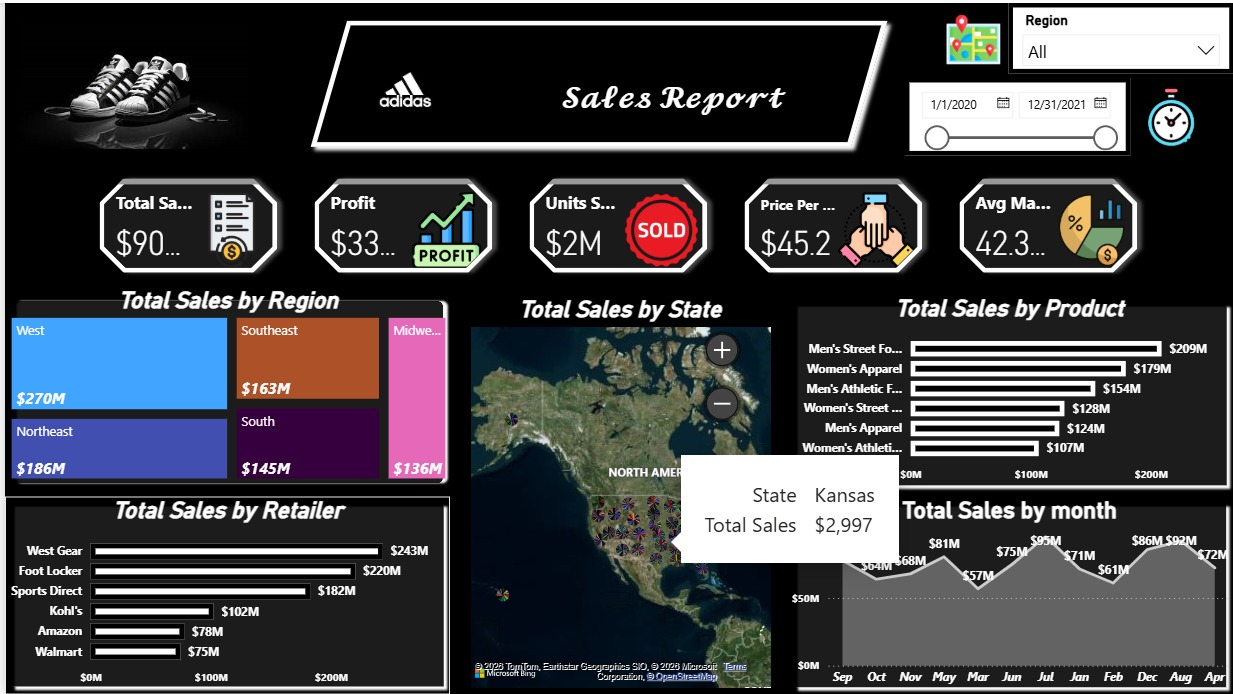

The dashboard page shown, as its layout file describes it:
{"tool":"powerbi","page":{"name":"Page 1","canvas":[1280,720],"ordinal":0},"visuals":[{"type":"shape","box":[309.6,8.7,619.1,149.6],"z":0},{"type":"textbox","box":[514.8,52.2,360,76.5],"z":1000},{"type":"cardVisual","fields":{"Data":["Sum(Data Sales Adidas.Total Sales)","Sum(Data Sales Adidas.Operating Profit)","Sum(Data Sales Adidas.Units Sold)","_Measure Table.Avg Price Per Unite","_Measure Table.Avg Margin"]},"box":[81.7,165.2,1116.5,132.2],"z":2000},{"type":"shape","box":[0,514.8,464.3,205.2],"z":3000},{"type":"shape","box":[0,303.8,463.7,204.5],"z":4000},{"type":"shape","box":[815.7,306.1,464.3,203.5],"z":5000},{"type":"shape","box":[816.5,514.1,463.7,205.9],"z":6000},{"type":"treemap","title":" Total Sales by Region","fields":{"Group":["Data Sales Adidas.Region"],"Values":["Sum(Data Sales Adidas.Total Sales)"]},"box":[1.7,295.7,462.6,205.2],"z":7000},{"type":"clusteredBarChart","title":" Total Sales by Product","fields":{"Category":["Data Sales Adidas.Product"],"Y":["Sum(Data Sales Adidas.Total Sales)"]},"box":[815,303.8,465.1,204.5],"z":8000},{"type":"clusteredBarChart","title":" Total Sales by Retailer","fields":{"Y":["Sum(Data Sales Adidas.Total Sales)"],"Category":["Data Sales Adidas.Retailer"]},"box":[0,514.8,464.3,205.2],"z":9000},{"type":"areaChart","title":" Total Sales by month","fields":{"Y":["Sum(Data Sales Adidas.Total Sales)"],"Category":["Data Sales Adidas.month"]},"box":[815,514.1,465.1,205.9],"z":10000},{"type":"image","box":[10.1,8.6,249.1,151.2],"z":11000},{"type":"image","box":[320,34.8,193,111.3],"z":12000},{"type":"shape","box":[477.4,304.3,325.2,415.7],"z":13000},{"type":"map","title":" Total Sales by State","fields":{"Category":["Data Sales Adidas.State"],"Series":["Data Sales Adidas.Total Sales"]},"box":[479.5,305.3,322.6,413.3],"z":14000},{"type":"slicer","fields":{"Values":["Data Sales Adidas.Region"]},"box":[1045.5,0,234.5,73],"z":15000},{"type":"slicer","fields":{"Values":["Data Sales Adidas.Invoice Date"]},"box":[938,78.2,234.5,81],"z":16000},{"type":"image","box":[1169.3,77.8,77.8,82.1],"z":17000},{"type":"image","box":[973.4,4.3,70.6,66.2],"z":18000}]}

Visuals, with their boxes in screenshot pixels (x1, y1, x2, y2), scaled from the page's 1280x720 canvas onto the 1233x694 screenshot:
shape: (298, 8, 895, 153)
textbox: (496, 50, 843, 124)
cardVisual - Sum(Data Sales Adidas.Total Sales) x Sum(Data Sales Adidas.Operating Profit): (79, 159, 1154, 287)
shape: (0, 496, 447, 693)
shape: (0, 293, 447, 490)
shape: (786, 295, 1232, 491)
shape: (787, 496, 1232, 693)
" Total Sales by Region" treemap: (2, 285, 447, 483)
" Total Sales by Product" clusteredBarChart: (785, 293, 1232, 490)
" Total Sales by Retailer" clusteredBarChart: (0, 496, 447, 693)
" Total Sales by month" areaChart: (785, 496, 1232, 693)
image: (10, 8, 250, 154)
image: (308, 34, 494, 141)
shape: (460, 293, 773, 693)
" Total Sales by State" map: (462, 294, 773, 693)
slicer - Data Sales Adidas.Region: (1007, 0, 1232, 70)
slicer - Data Sales Adidas.Invoice Date: (904, 75, 1129, 153)
image: (1126, 75, 1201, 154)
image: (938, 4, 1006, 68)
